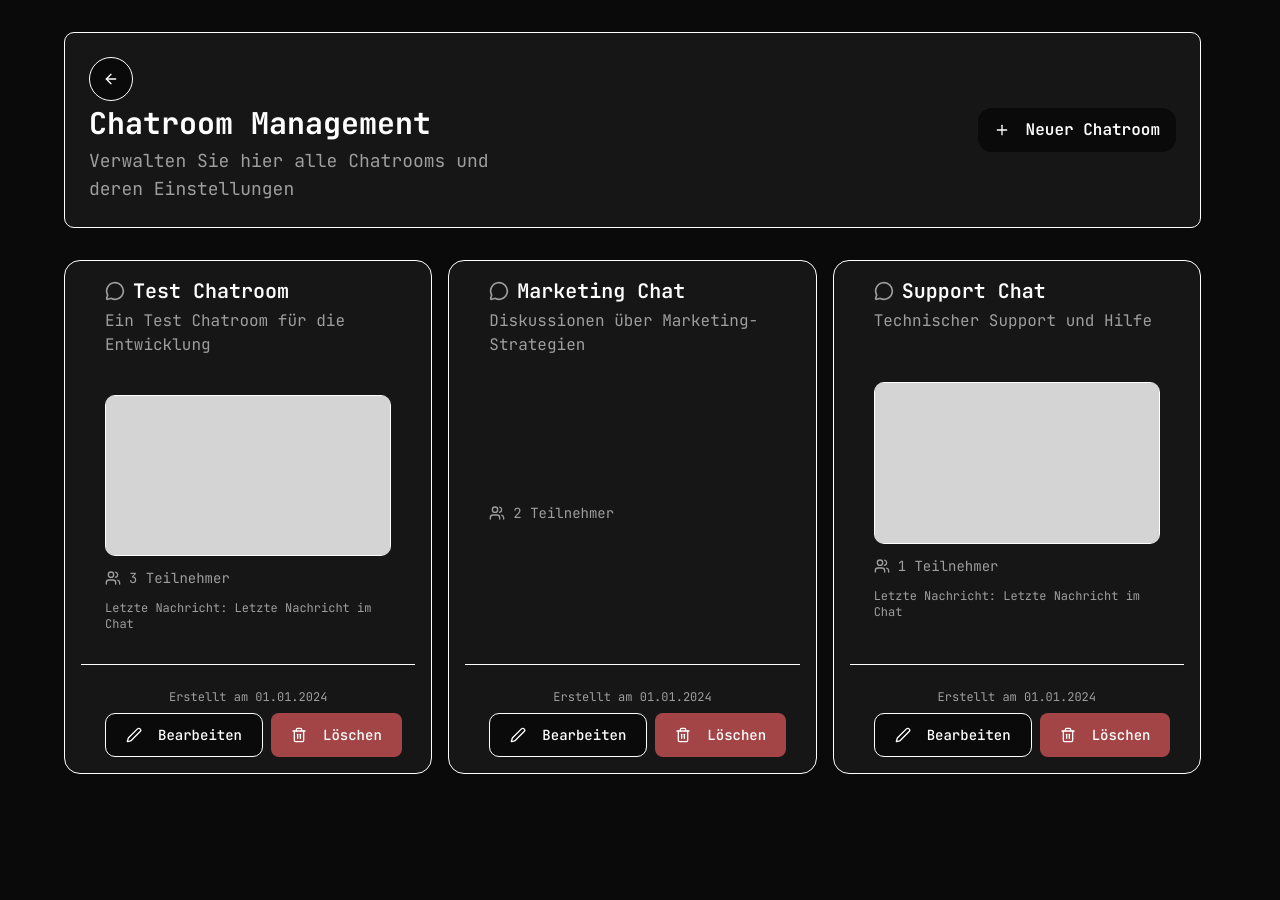
Test case: ChatroomManagement › Edit Chatroom Dialog › sollte Fehler bei Chatroom-Aktualisierung handhaben
Expected: the text "Test Chatroom" is shown, left=105, top=278, right=289, bottom=304
Click the 1st button "Bearbeiten".
click(184, 734)  # box left=105, top=712, right=263, bottom=756
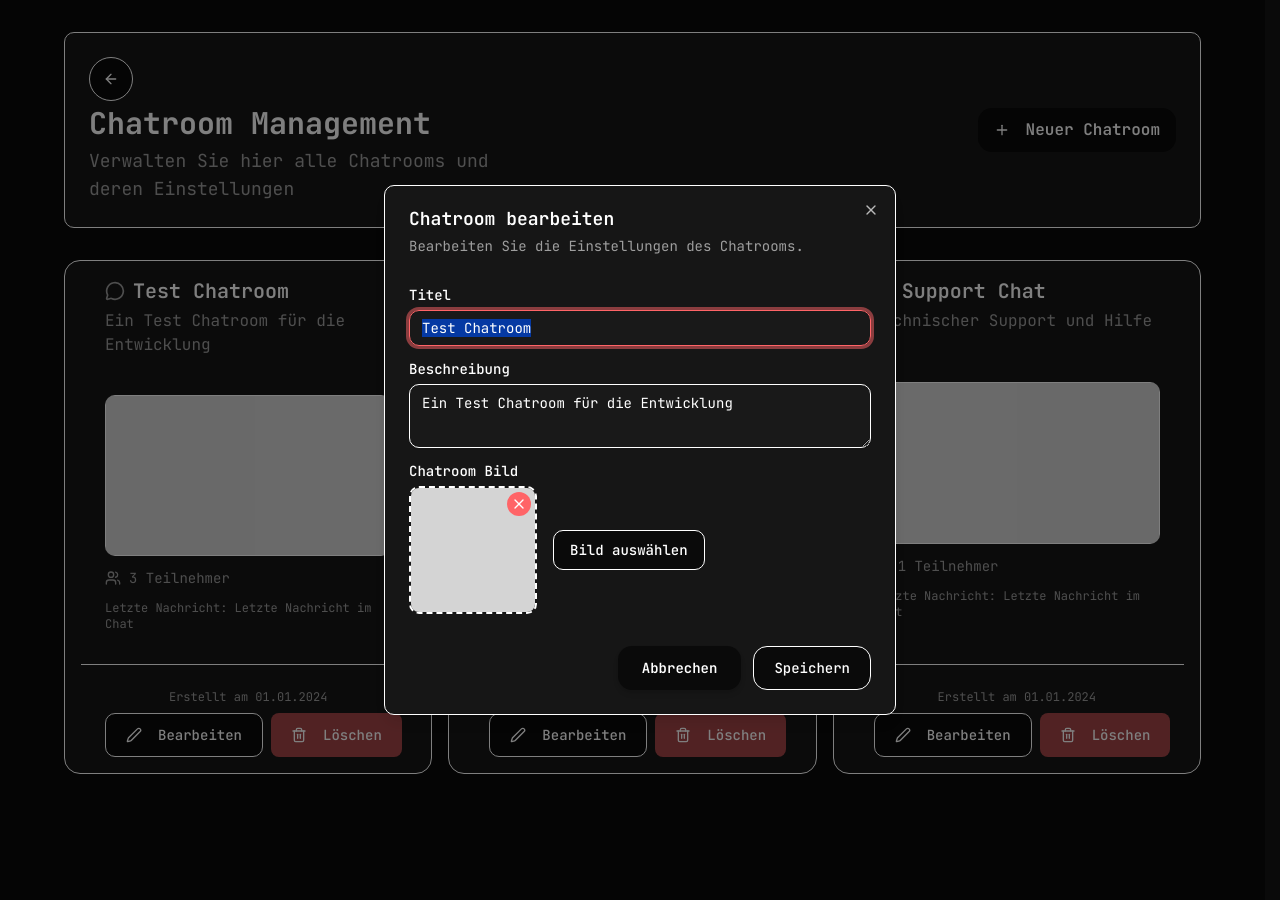
Click the button "Speichern".
click(812, 668)  # box left=753, top=646, right=871, bottom=690
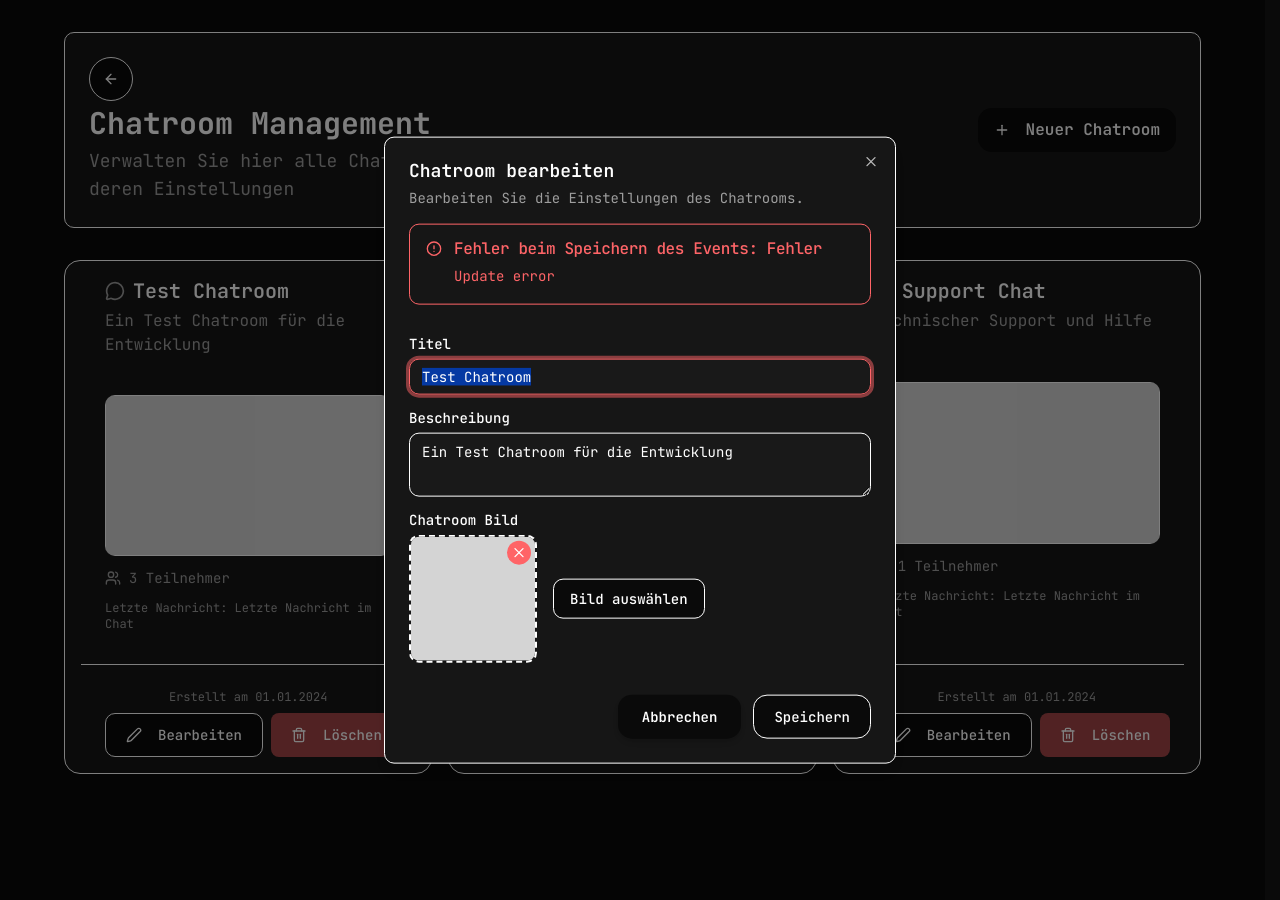
Result: the heading "Fehler beim Speichern des Events: Fehler" is shown at left=426, top=241, right=854, bottom=257
